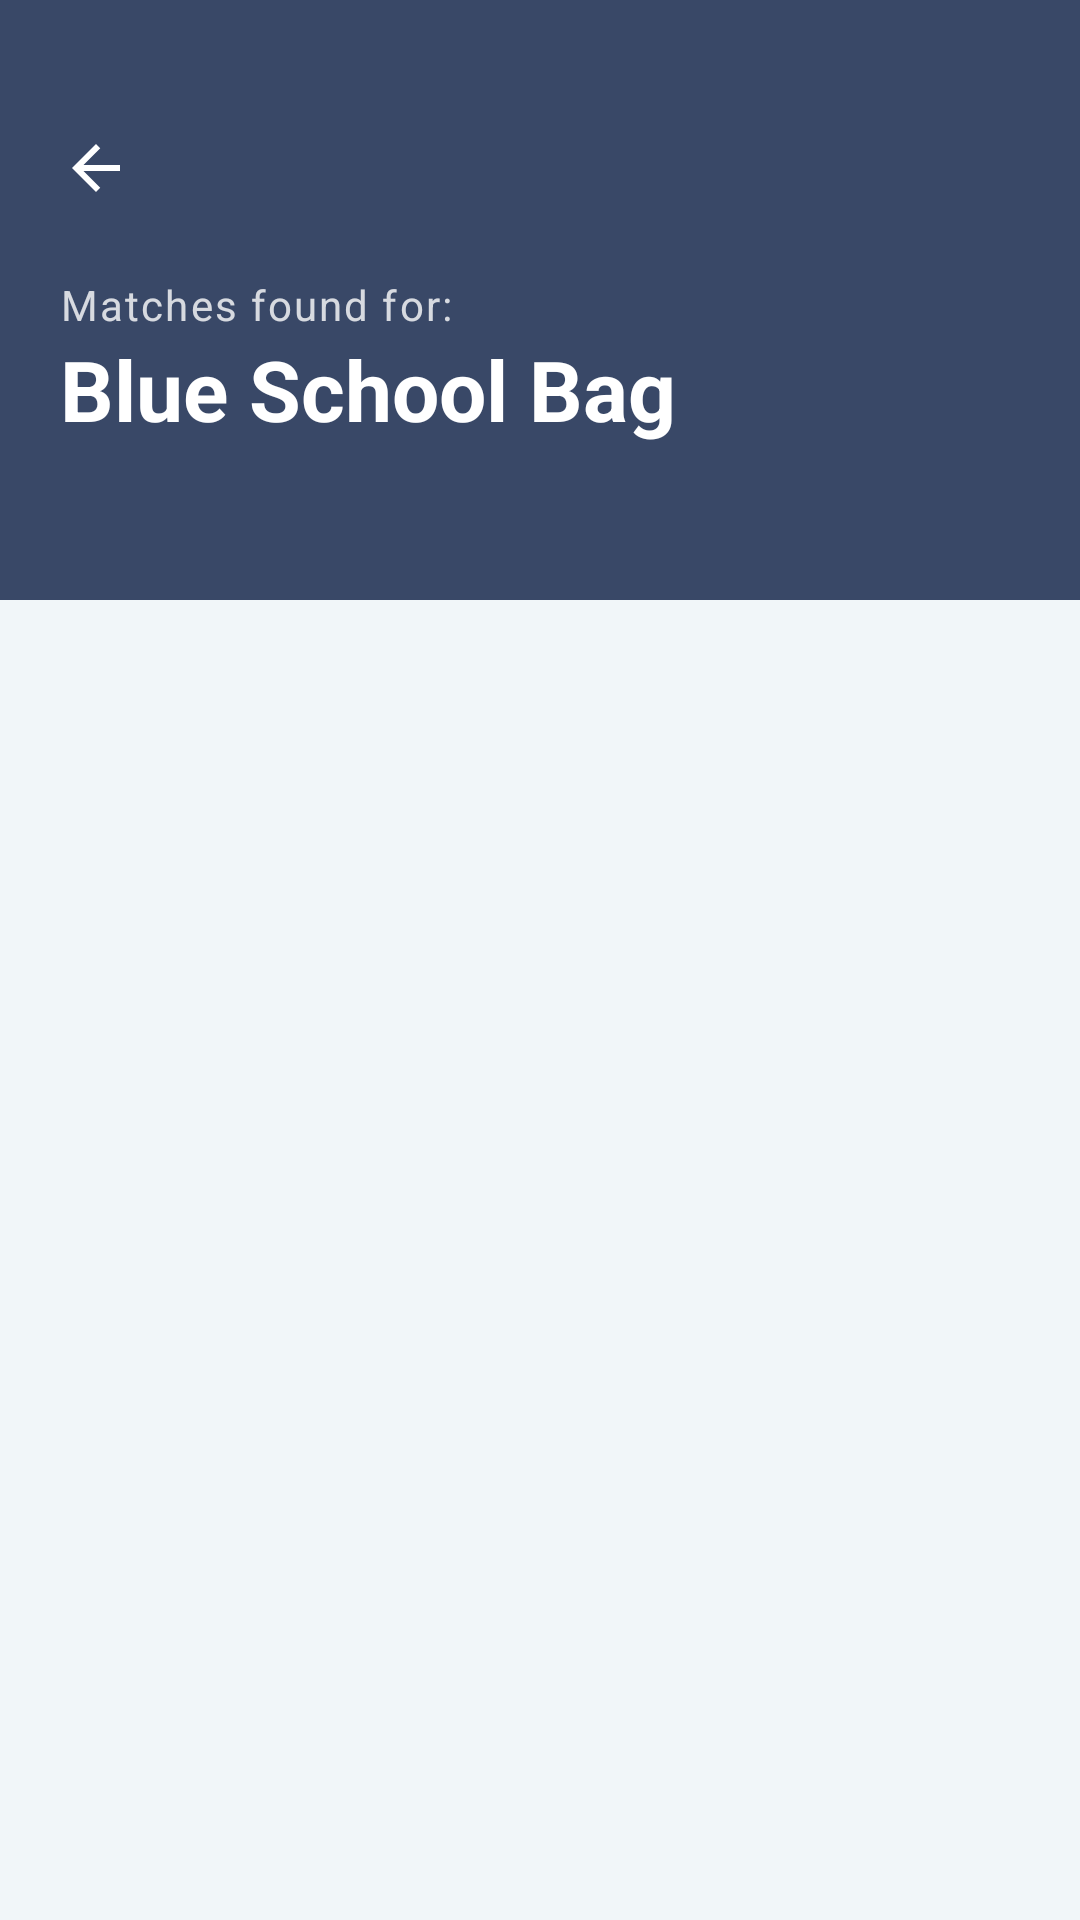

Icon bounding boxes for this 1080px×1920px phone screenshot, format (x1, y1, x2, y2):
arrow back: (72, 144, 120, 192)
